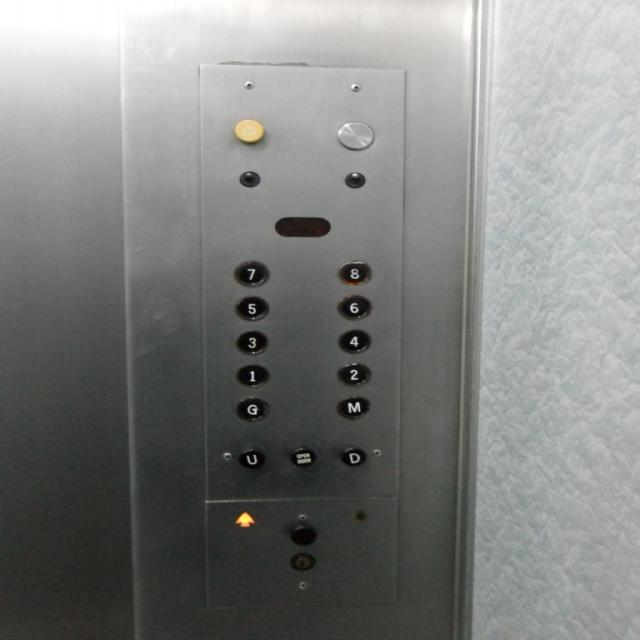1: (232, 362, 270, 389)
2: (332, 360, 372, 387)
3: (232, 328, 270, 356)
4: (335, 327, 374, 354)
5: (234, 295, 272, 322)
6: (333, 293, 372, 320)
7: (232, 260, 270, 287)
8: (335, 258, 374, 286)
D: (336, 445, 367, 468)
G: (232, 394, 272, 422)
M: (332, 394, 372, 421)
U: (235, 448, 267, 470)
alarm: (229, 117, 267, 145)
down: (343, 502, 375, 525)
empty: (333, 118, 377, 152), (287, 523, 318, 546)
keyhole: (287, 551, 315, 571)
text_open hold: (287, 445, 318, 468)
up: (230, 509, 262, 532)
